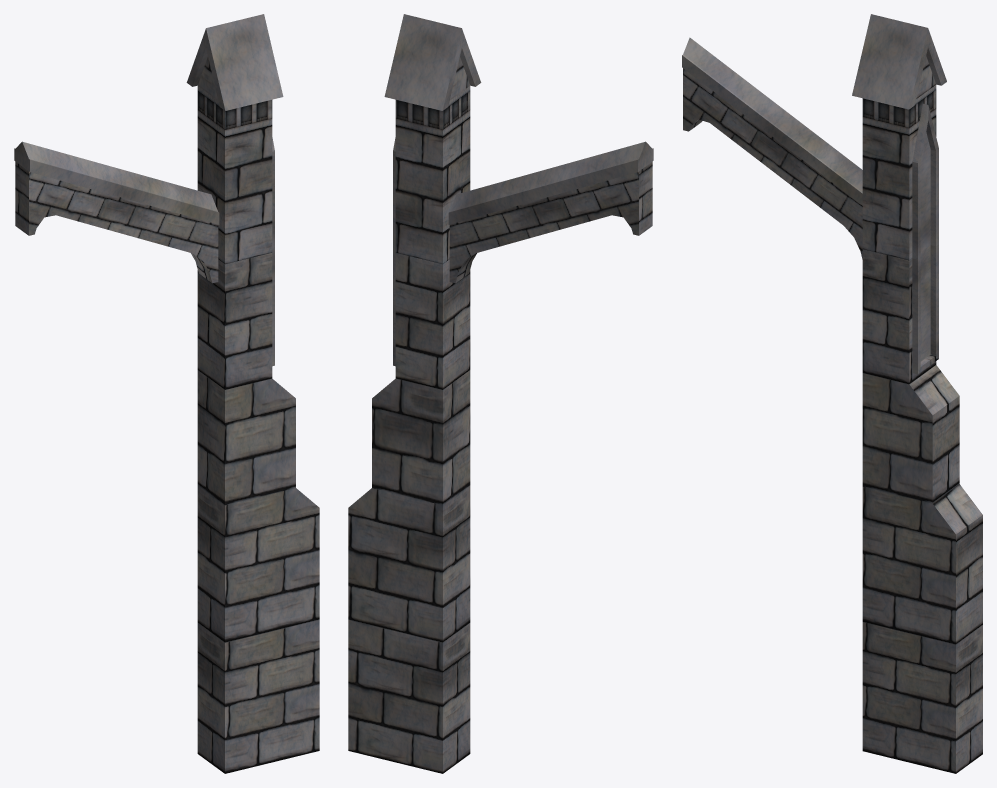
File: flying_buttress_01.glb
3 renders of one model, left to right at view 1: azimuth 30°, elevation 25°; view 2: azimuth 150°, elevation 25°; view 3: azimuth 330°, elevation 25°, orthographic.
Parts seen in each view (by area): view 1: flying_buttress_01; view 2: flying_buttress_01; view 3: flying_buttress_01.
Part boxes in pixels (x1,y1,x2,y2): flying_buttress_01: (14,14,319,773); flying_buttress_01: (348,14,653,773); flying_buttress_01: (682,14,982,773).
Size of the model in its own units: 12 by 29.77 by 2.83.
1 material, 1 textured.
